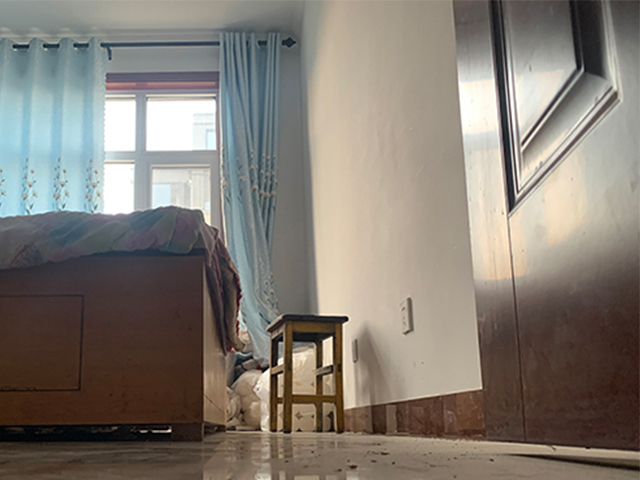bed: (1, 205, 245, 442)
curtain: (217, 26, 284, 358), (2, 24, 105, 213)
stool: (268, 313, 350, 434)
